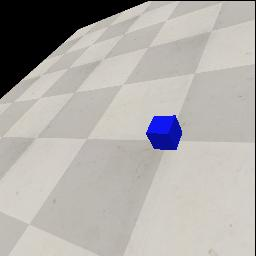box: (146, 115, 183, 150)
